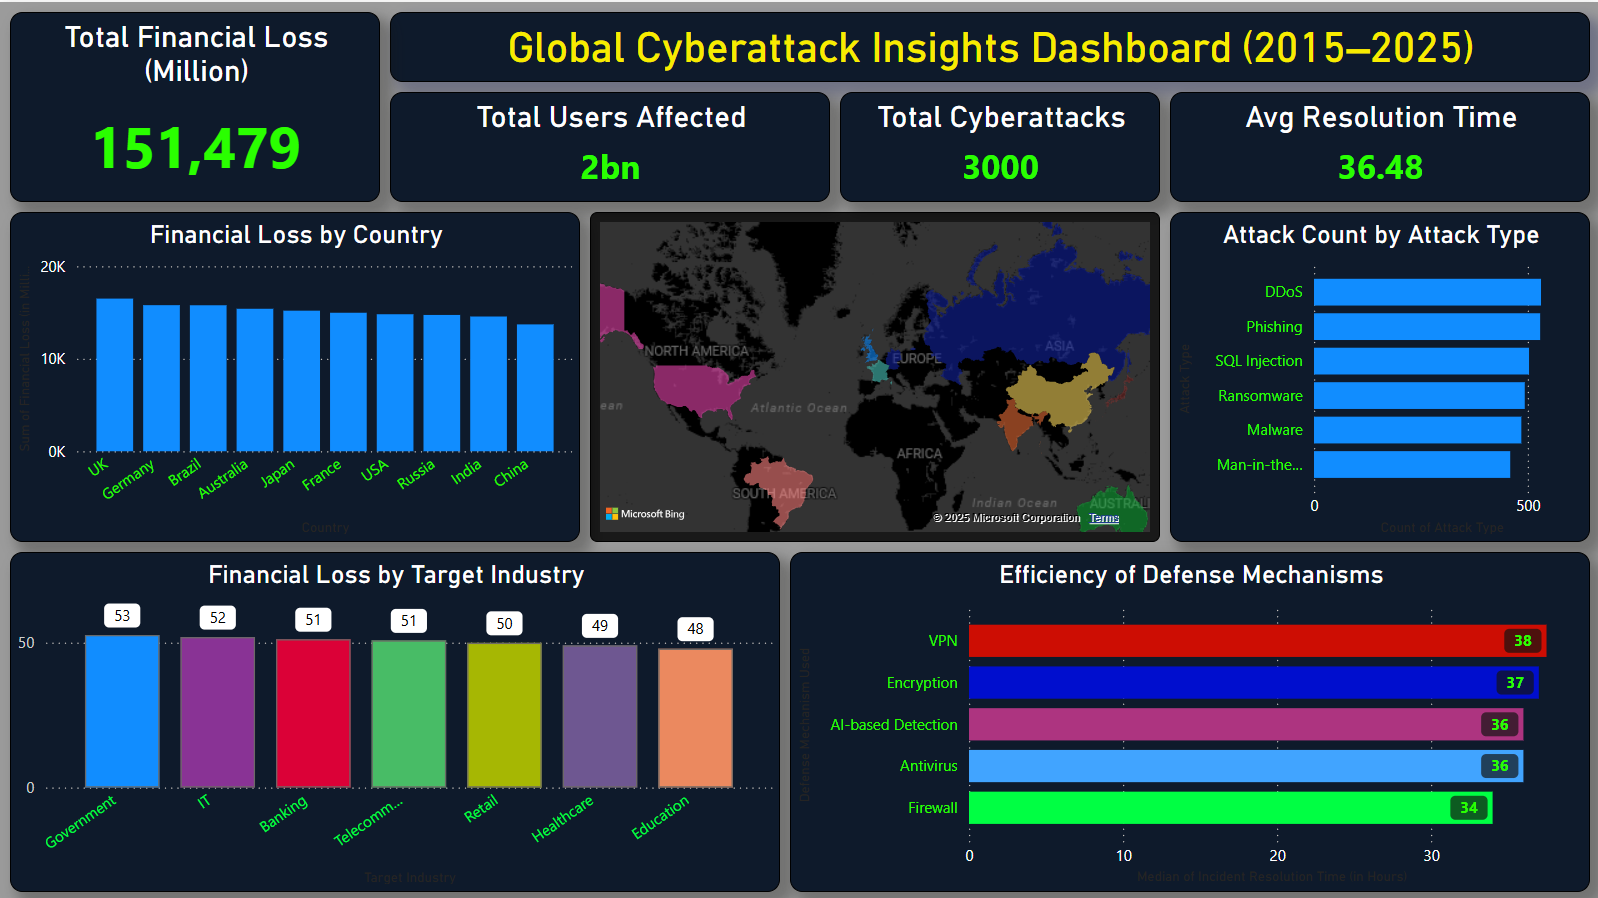

Layout of this report page (visuals, bound fields, positions):
{"tool":"powerbi","page":{"name":"Page 1","canvas":[1280,720],"ordinal":0},"visuals":[{"type":"textbox","box":[312,8,960,56],"z":0},{"type":"card","title":"Total Financial Loss (Million)","fields":{"Values":["Sum(Global_Cybersecurity_Threats_2015-2024.Financial Loss (in Million $))"]},"box":[8,8,296,152],"z":1000},{"type":"card","title":"Total Users Affected","fields":{"Values":["Sum(Global_Cybersecurity_Threats_2015-2024.Number of Affected Users)"]},"box":[312,72,352,88],"z":2000},{"type":"card","title":"Total Cyberattacks","fields":{"Values":["CountNonNull(Global_Cybersecurity_Threats_2015-2024.Country)"]},"box":[672,72,256,88],"z":3000},{"type":"card","title":"Avg Resolution Time","fields":{"Values":["Avg(Global_Cybersecurity_Threats_2015-2024.Incident Resolution Time (in Hours))"]},"box":[936,72,336,88],"z":4000},{"type":"columnChart","title":"Financial Loss by Country","fields":{"Category":["Global_Cybersecurity_Threats_2015-2024.Country"],"Y":["Sum(Global_Cybersecurity_Threats_2015-2024.Financial Loss (in Million $))"]},"box":[8,168,456,264],"z":5000},{"type":"barChart","title":"Attack Count by Attack Type","fields":{"Category":["Global_Cybersecurity_Threats_2015-2024.Attack Type"],"Y":["CountNonNull(Global_Cybersecurity_Threats_2015-2024.Attack Type)"]},"box":[936,168,336,264],"z":6000},{"type":"lineStackedColumnComboChart","title":"Financial Loss by Target Industry","fields":{"Category":["Global_Cybersecurity_Threats_2015-2024.Target Industry"],"Y":["Avg(Global_Cybersecurity_Threats_2015-2024.Financial Loss (in Million $))"]},"box":[8,440,616,272],"z":7000},{"type":"clusteredBarChart","title":"Efficiency of Defense Mechanisms","fields":{"Category":["Global_Cybersecurity_Threats_2015-2024.Defense Mechanism Used"],"Y":["Median(Global_Cybersecurity_Threats_2015-2024.Incident Resolution Time (in Hours))"]},"box":[632,440,640,272],"z":8000},{"type":"filledMap","fields":{"Category":["Global_Cybersecurity_Threats_2015-2024.Country"],"Series":["Global_Cybersecurity_Threats_2015-2024.Financial Loss (in Million $)"]},"box":[472,168,456,264],"z":9000}]}

Visuals, with their boxes in screenshot pixels (x1, y1, x2, y2), scaled from the page's 1280x720 canvas onto the 1598x898 screenshot:
textbox: Rect(390, 10, 1588, 80)
"Total Financial Loss (Million)" card: Rect(10, 10, 380, 200)
"Total Users Affected" card: Rect(390, 90, 829, 200)
"Total Cyberattacks" card: Rect(839, 90, 1159, 200)
"Avg Resolution Time" card: Rect(1169, 90, 1588, 200)
"Financial Loss by Country" columnChart: Rect(10, 210, 579, 539)
"Attack Count by Attack Type" barChart: Rect(1169, 210, 1588, 539)
"Financial Loss by Target Industry" lineStackedColumnComboChart: Rect(10, 549, 779, 888)
"Efficiency of Defense Mechanisms" clusteredBarChart: Rect(789, 549, 1588, 888)
filledMap - Global_Cybersecurity_Threats_2015-2024.Country x Global_Cybersecurity_Threats_2015-2024.Financial Loss (in Million $): Rect(589, 210, 1159, 539)
